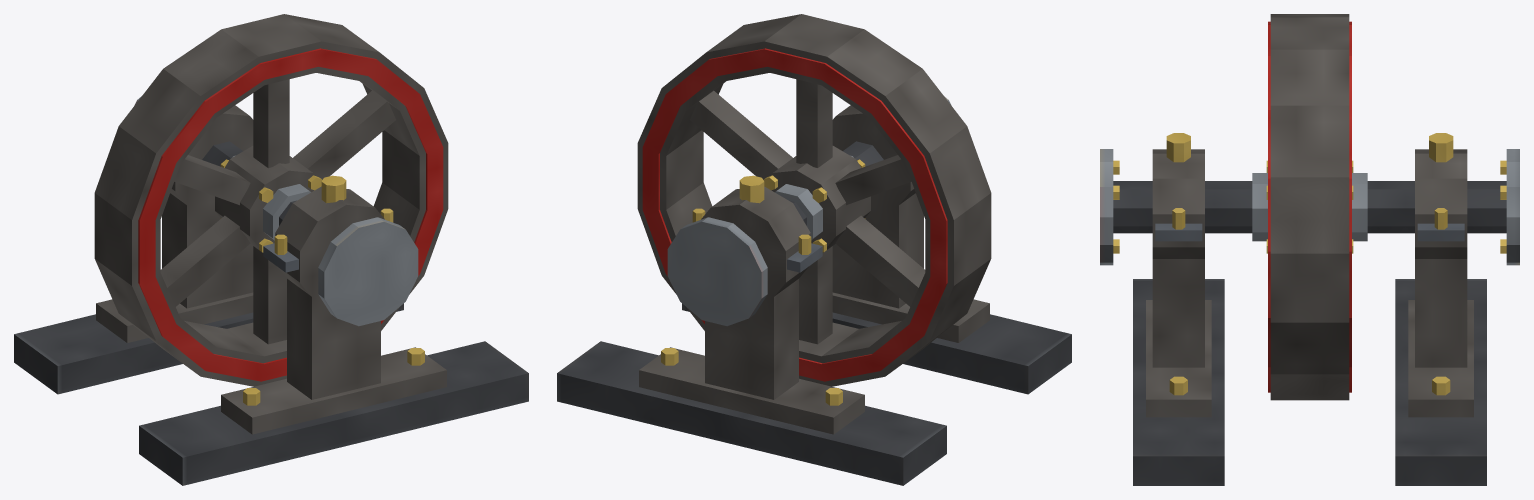
Rendered from shaftflywheel.obj.
3 renders of one model, left to right at view 1: azimuth 30°, elevation 25°; view 2: azimuth 150°, elevation 25°; view 3: azimuth 270°, elevation 25°, orthographic. The views are drawn at different scales.
Visible parts, largest first — view 1: rotor, main; view 2: rotor, main; view 3: main, rotor.
Boxes of the visible parts, <box> form: rotor: <box>94,14,448,386</box>; main: <box>14,105,528,485</box>; rotor: <box>637,14,991,386</box>; main: <box>557,105,1071,485</box>; main: <box>1133,133,1486,485</box>; rotor: <box>1100,14,1519,400</box>.
Bounding box in the file's own units: 1 × 0.9567 × 1.
Materials: 1 (1 with a texture image).
